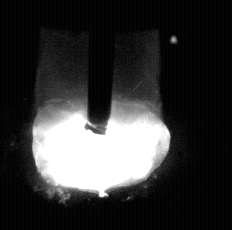arame: (88, 0, 113, 134)
poca: (30, 0, 171, 230)
